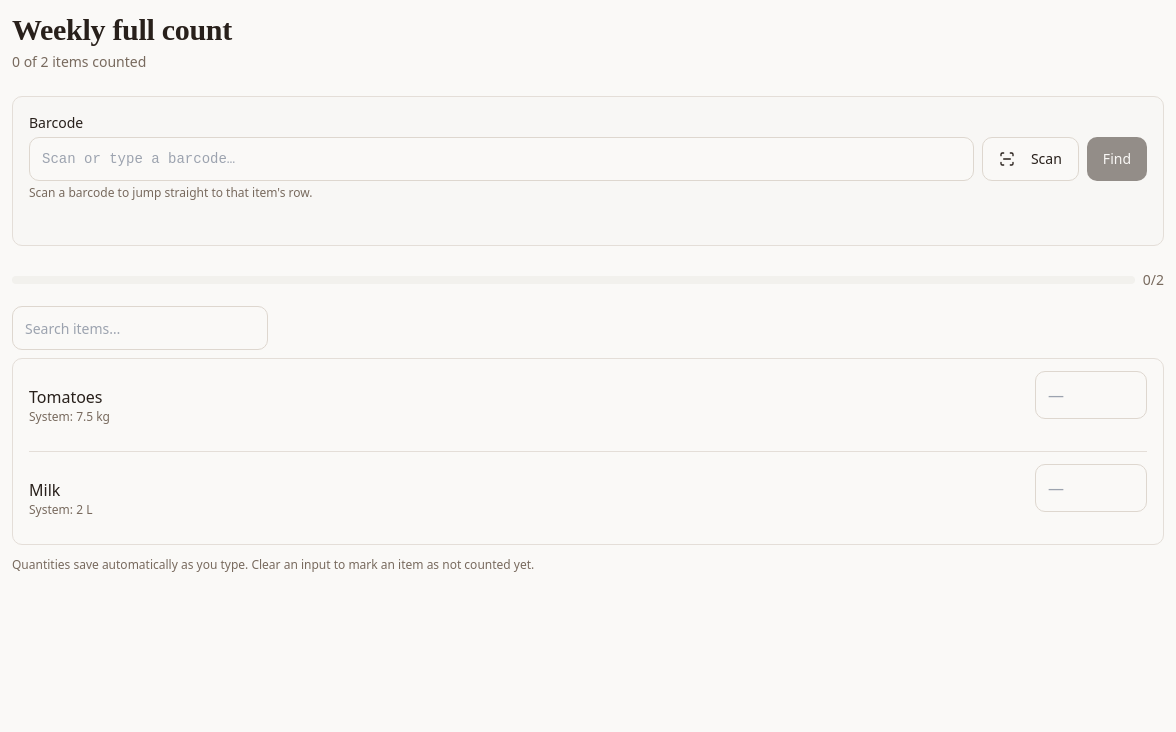
CountSheetPage › barcode resolving outside the count shows a notice, not a highlight
In the field labelled "Barcode": (501, 159) [29, 137, 974, 181], type "8901234567899"
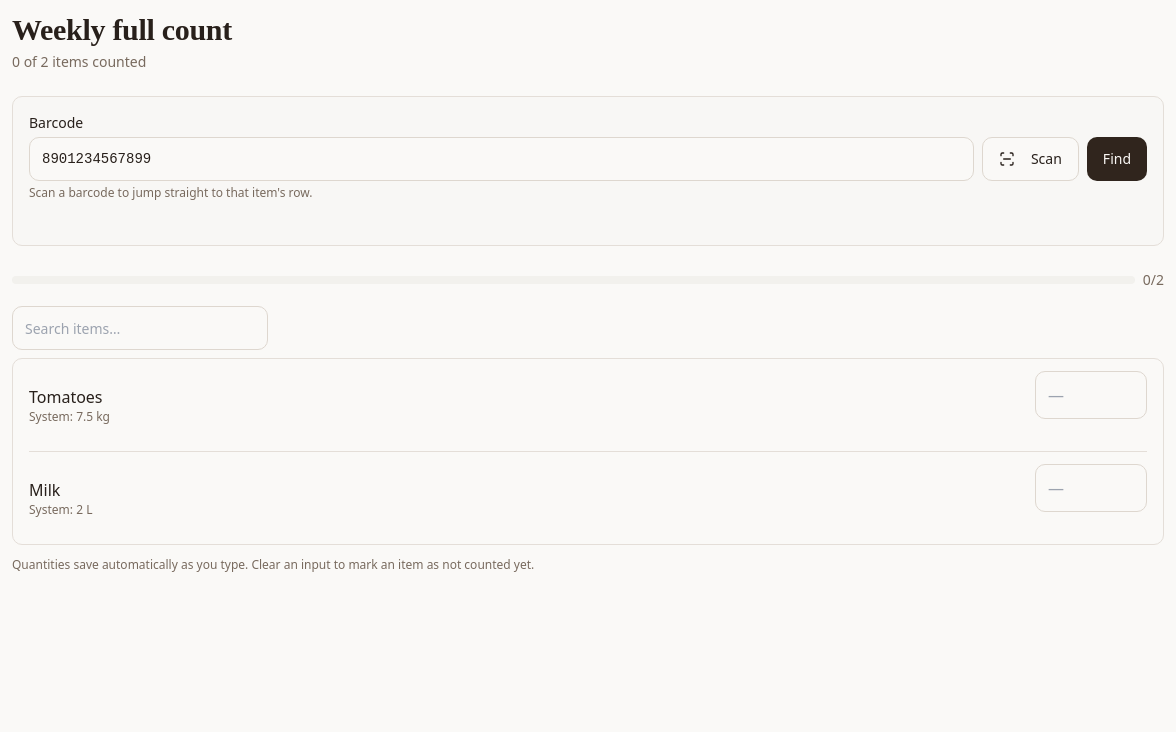
Click the button "Find": click(1117, 159) [1087, 137, 1147, 181]
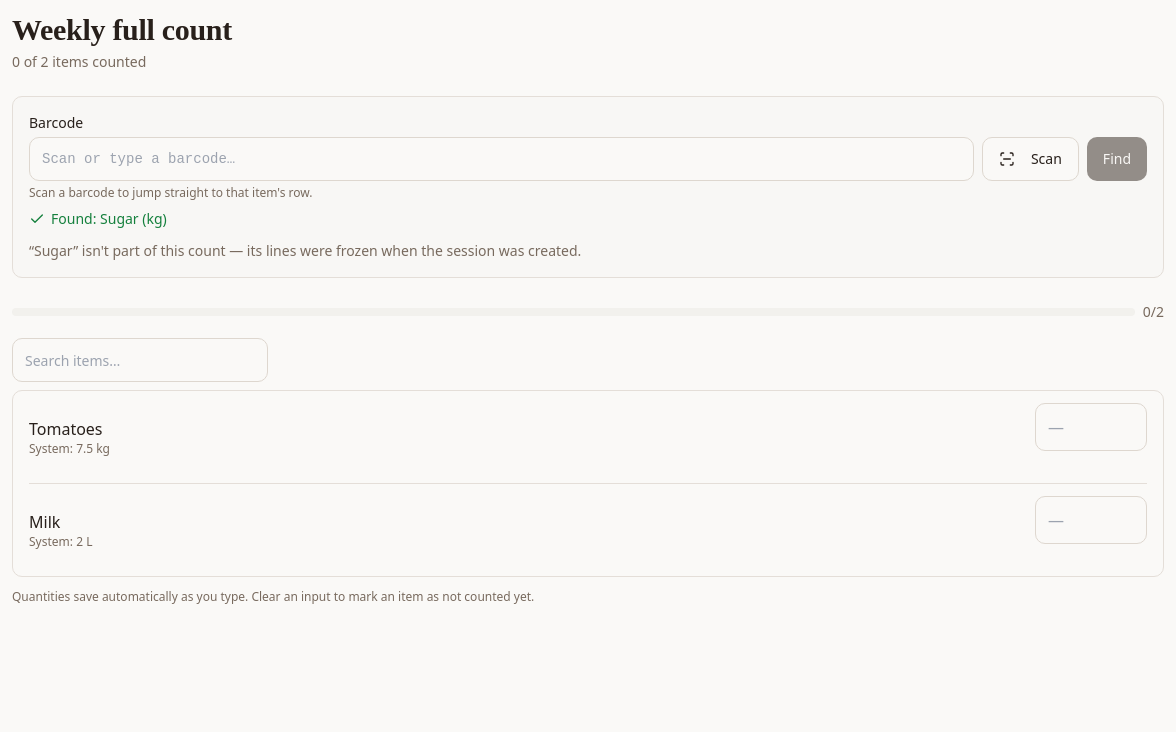
Expected: the text "isn't part of this count" is shown, [29, 241, 581, 260]
